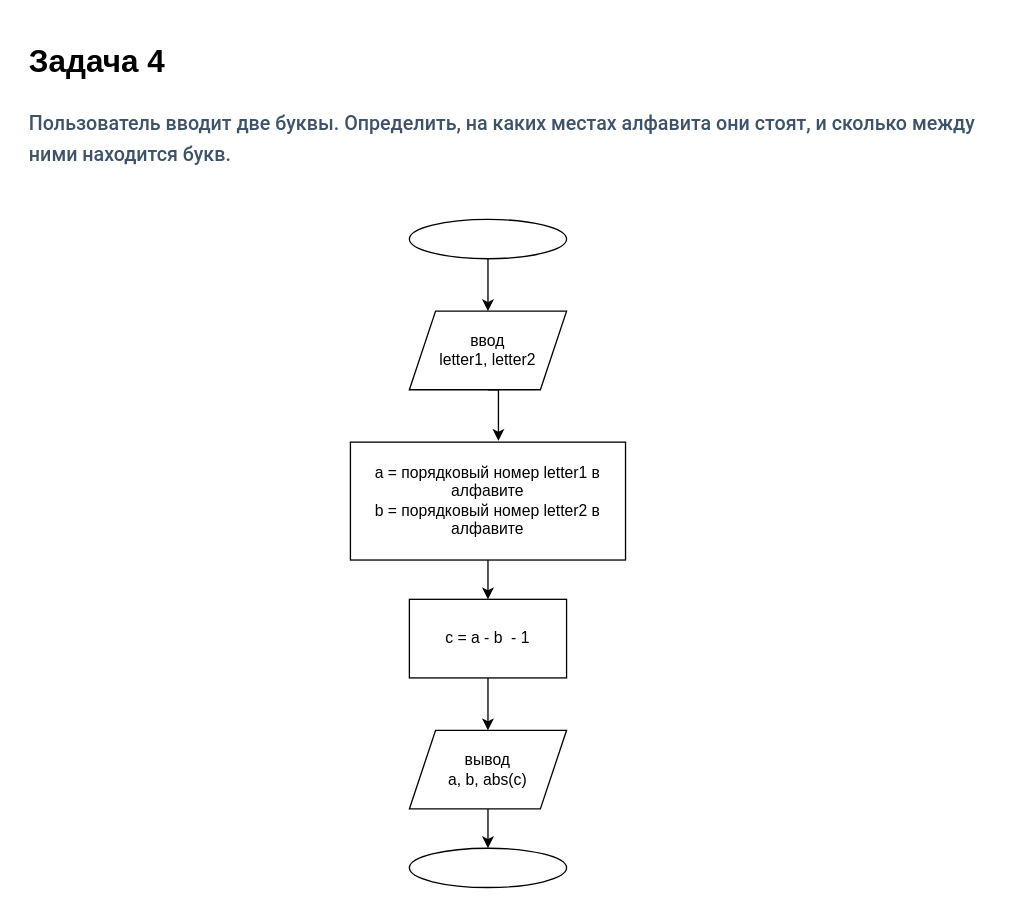
Some shapes in this 1027 by 910 pixel diagram are drawn without their labels. Here are the shapes that lost their labels. From the top down, the centre of each, then its label:
At (487,238): "начало".
At (487,867): "конец".
